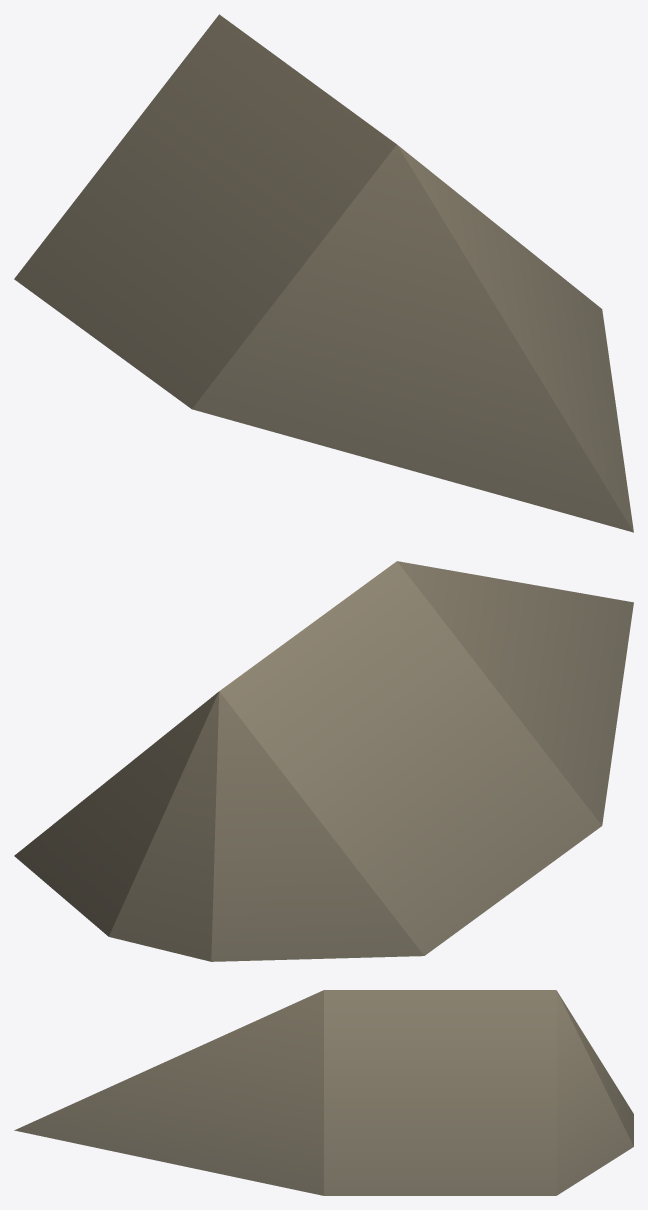
Rendered from enemy_shoe.gltf.
3 views of the same model, one above another, from view 1: azimuth 30°, elevation 25°; view 2: azimuth 150°, elevation 25°; view 3: azimuth 270°, elevation 25° (orthographic). The views are drawn at different scales.
Visible parts, largest first — view 1: enemy_shoe_mesh; view 2: enemy_shoe_mesh; view 3: enemy_shoe_mesh.
Part boxes in pixels (bbox=[...]): enemy_shoe_mesh: bbox=[14, 14, 633, 532]; enemy_shoe_mesh: bbox=[14, 561, 633, 961]; enemy_shoe_mesh: bbox=[14, 990, 633, 1195].
Size of the model in its own units: 0.2 by 0.1 by 0.4.
